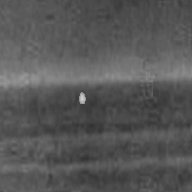Target: (78, 90, 87, 104)
